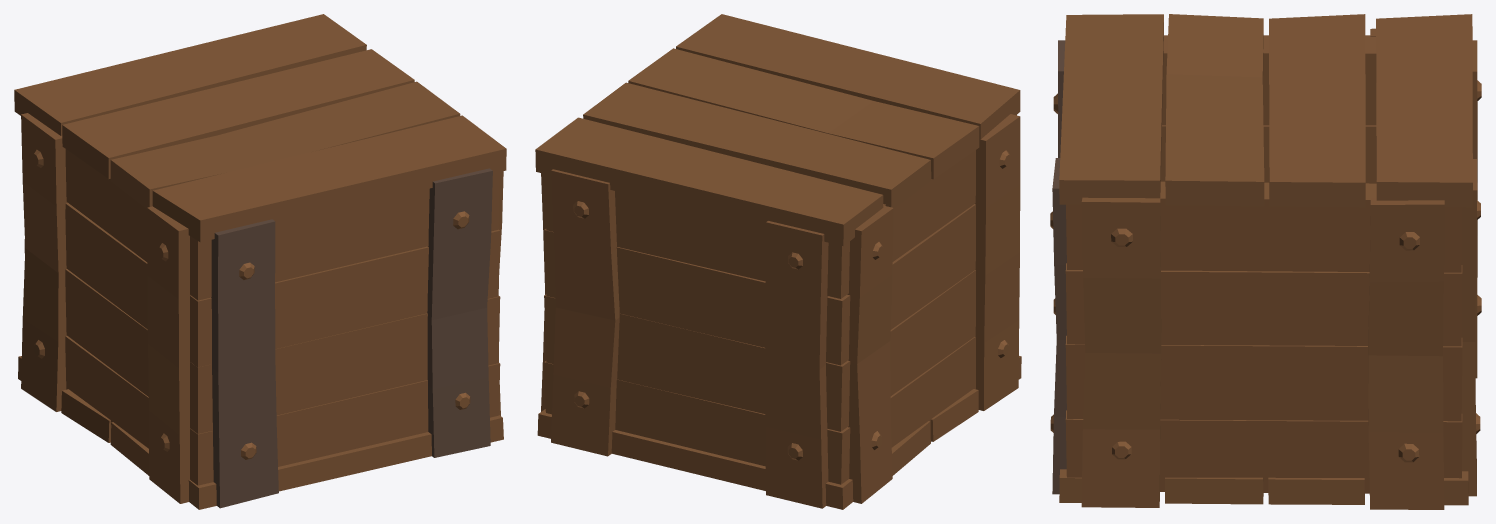
Rendered from pushBox.fbx.
3 renders of one model, left to right at view 1: azimuth 30°, elevation 25°; view 2: azimuth 150°, elevation 25°; view 3: azimuth 270°, elevation 25°, orthographic. The views are drawn at different scales.
Visible parts, largest first — view 1: polySurface72, polySurface82, polySurface87; view 2: polySurface72; view 3: polySurface72, polySurface87, polySurface82.
Boxes of the visible parts, x1,y1,x2,y2 form: polySurface72: [14, 14, 506, 509]; polySurface82: [211, 219, 278, 508]; polySurface87: [427, 168, 492, 457]; polySurface72: [535, 14, 1021, 509]; polySurface72: [1050, 14, 1481, 509]; polySurface87: [1052, 158, 1066, 494]; polySurface82: [1058, 40, 1065, 157].
Bounding box in the file's own units: 0.6418 × 0.5404 × 0.6515.
